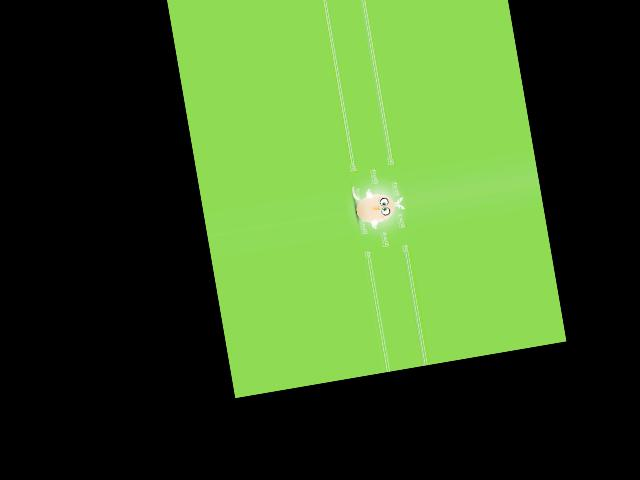egg: (353, 190, 396, 225)
